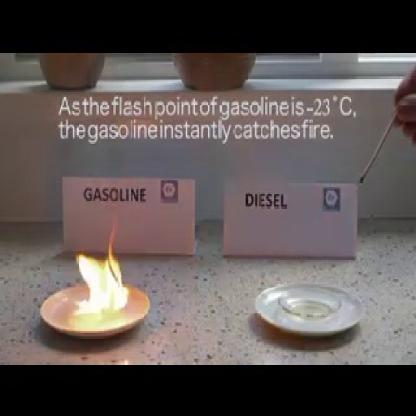fire: (70, 224, 132, 322)
